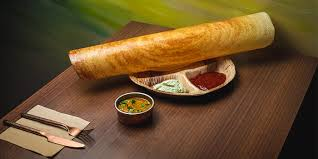dosa: (60, 8, 282, 81)
